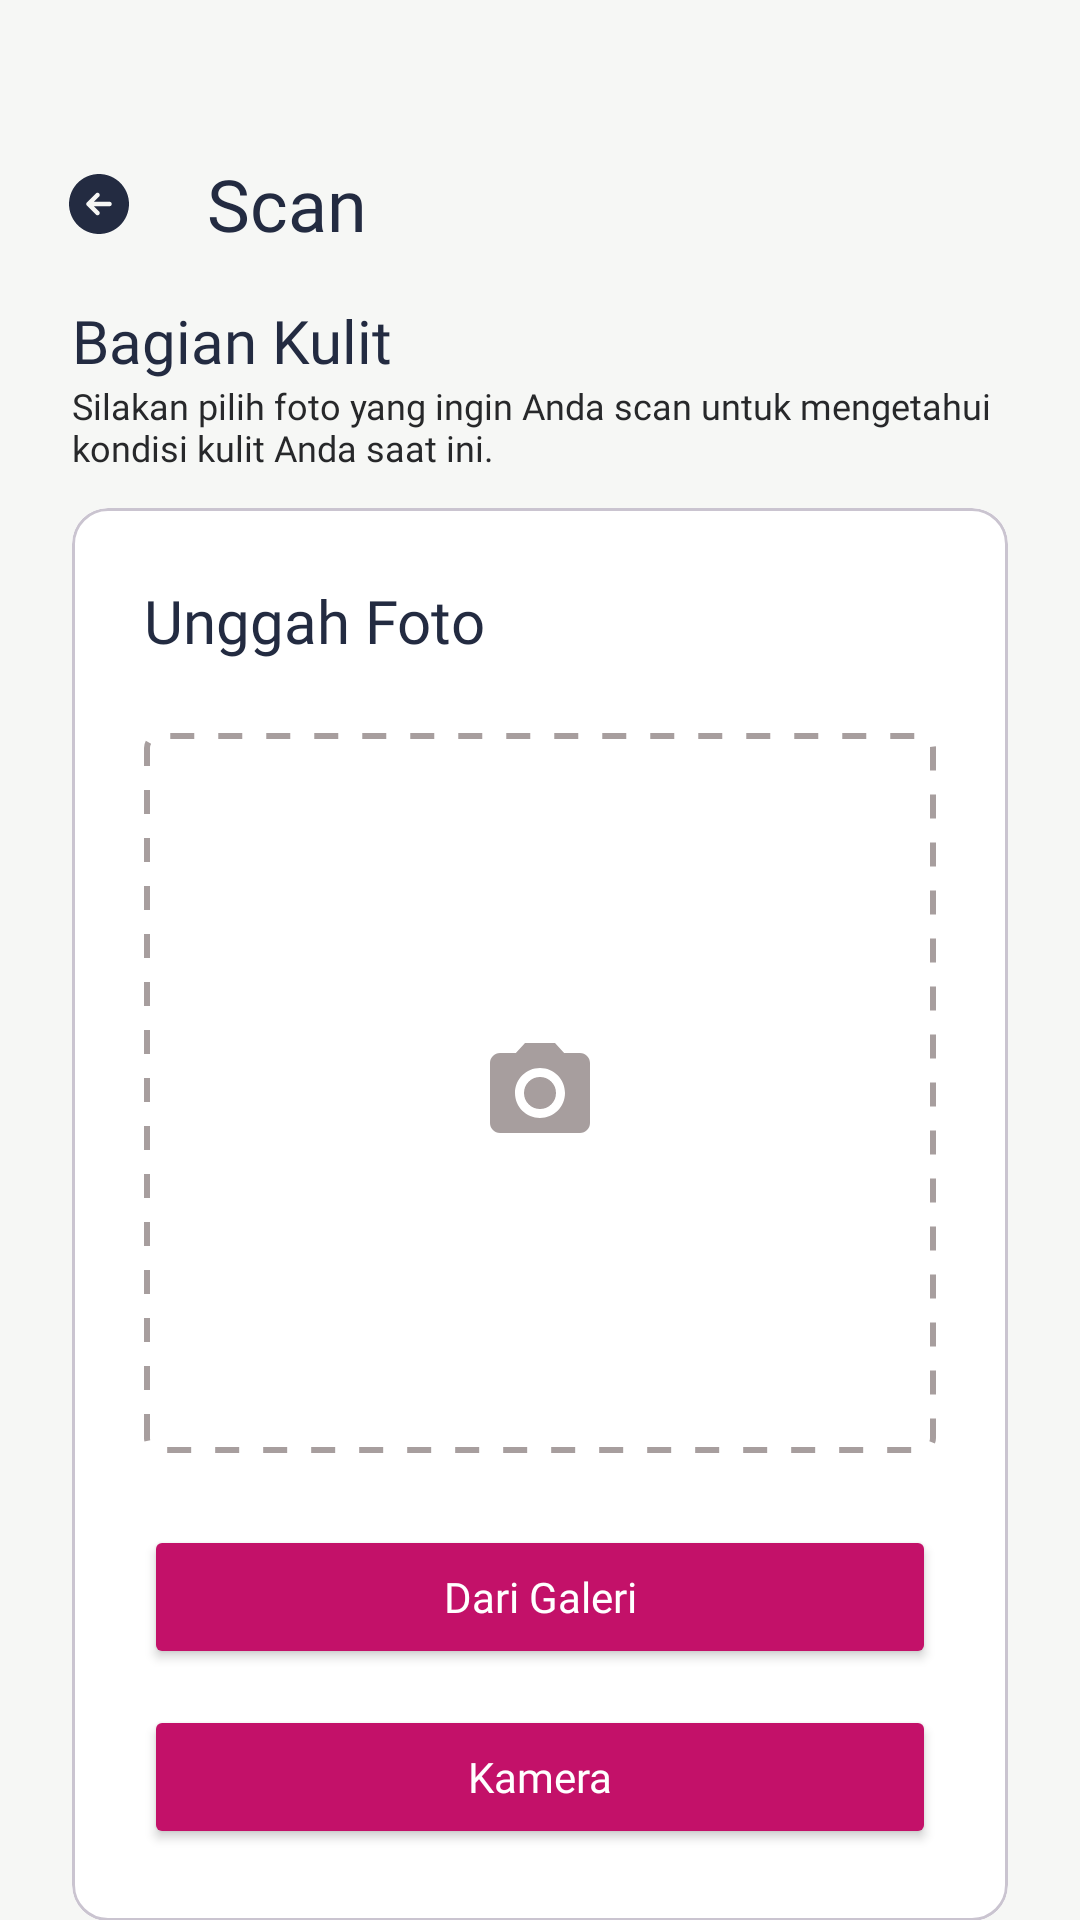

Where to tap for icons on this 1080 x 1920 app screen, as [x,y]:
Ikon Tata letak foto: [540,1088]
